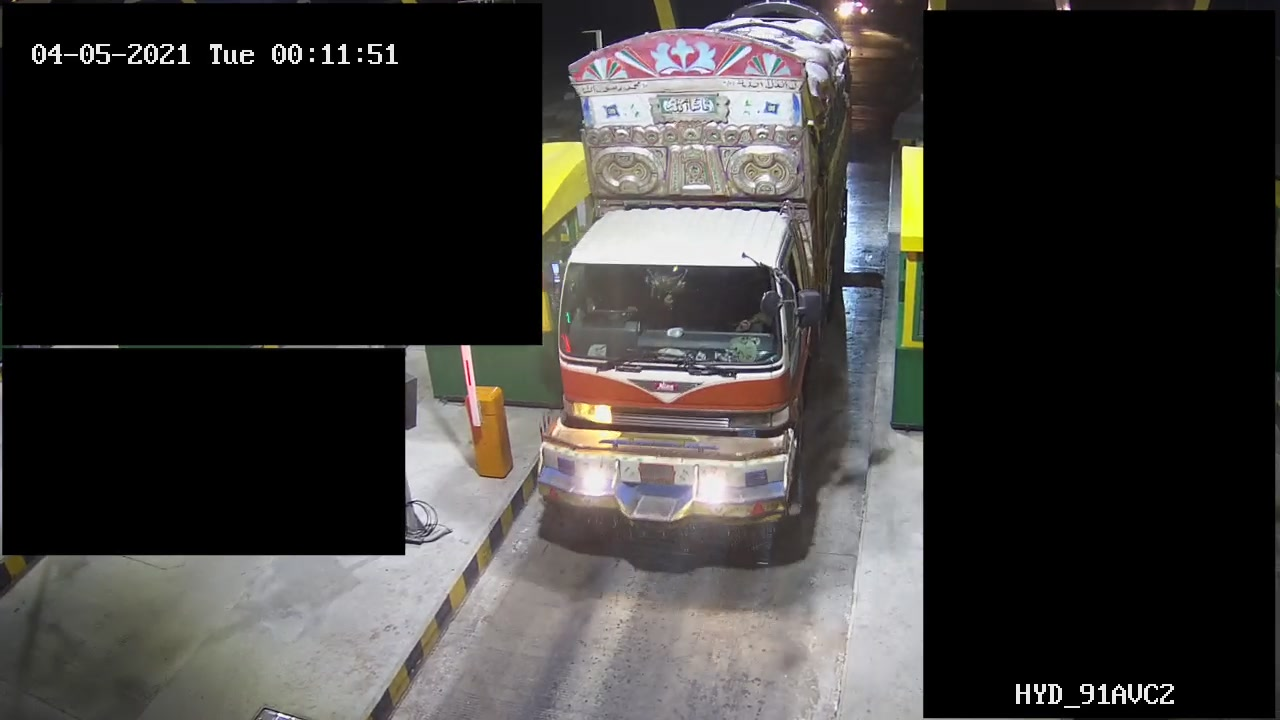F5: (523, 7, 861, 552)
